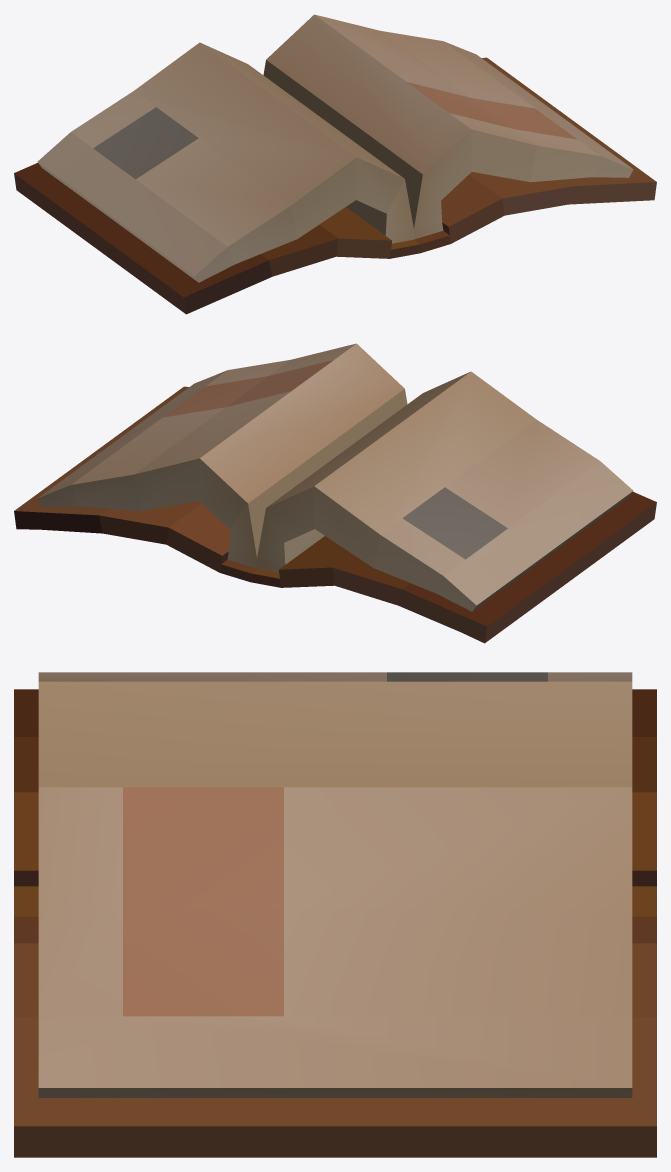
Rendered from Prop_BookI.fbx.
3 views of the same model, one above another, from view 1: azimuth 30°, elevation 25°; view 2: azimuth 150°, elevation 25°; view 3: azimuth 270°, elevation 25° (orthographic). The views are drawn at different scales.
Parts seen in each view (by area): view 1: Prop_BookI; view 2: Prop_BookI; view 3: Prop_BookI.
Part boxes in pixels (x1,y1,x2,y2): Prop_BookI: (14,14,656,314); Prop_BookI: (14,343,656,643); Prop_BookI: (14,672,656,1157).
Bounding box in the file's own units: 54.69 × 12.08 × 34.01.
